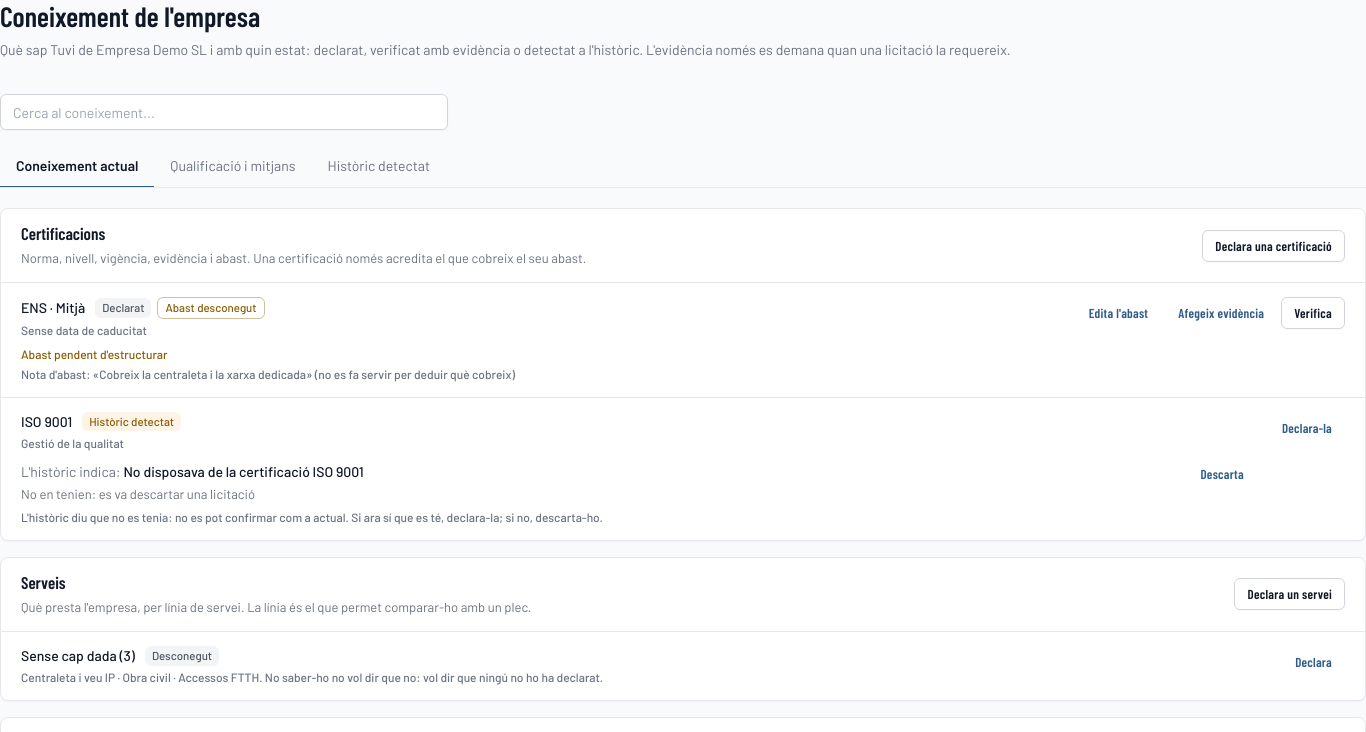
Test case: Coneixement de l'empresa › edita l'abast d'una certificació: el text és una nota i es desen línies del vocabulari
expect the element showing "Coneixement actual Qualificació i mitjans Històric detectat" is shown: met, box [0,146,1365,188]
Click the button "Edita l'abast" at (1118, 313), box [1076,297,1161,329]
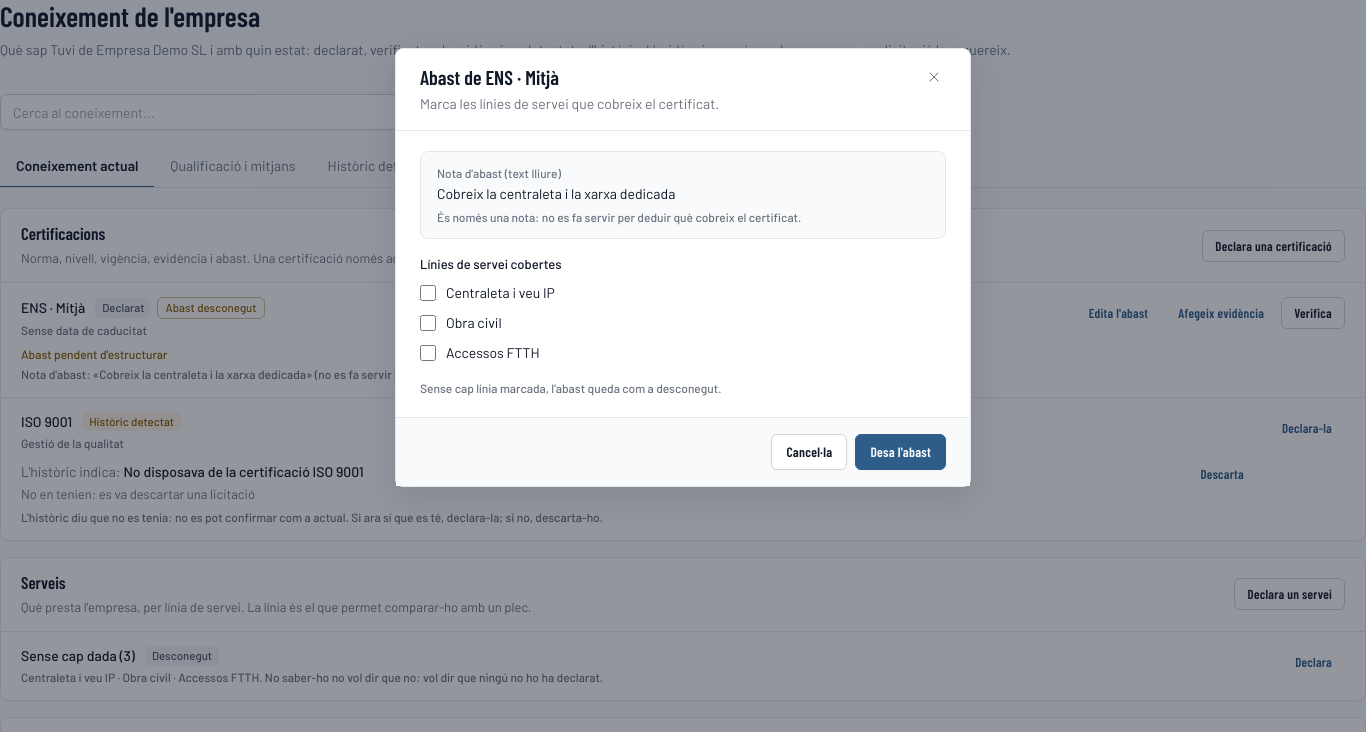
expect the dialog "Abast de ENS · Mitjà" shows "Cobreix la centraleta i la xarxa dedicada": met, box [437,185,675,202]
expect the dialog "Abast de ENS · Mitjà" shows "no es fa servir per deduir què cobreix el certificat": met, box [437,210,801,224]
expect the dialog "Abast de ENS · Mitjà" shows "l'abast queda com a desconegut": met, box [420,380,722,394]
Click the checkbox labelled "Centraleta i veu IP" at (428, 292), box [420,284,436,300]
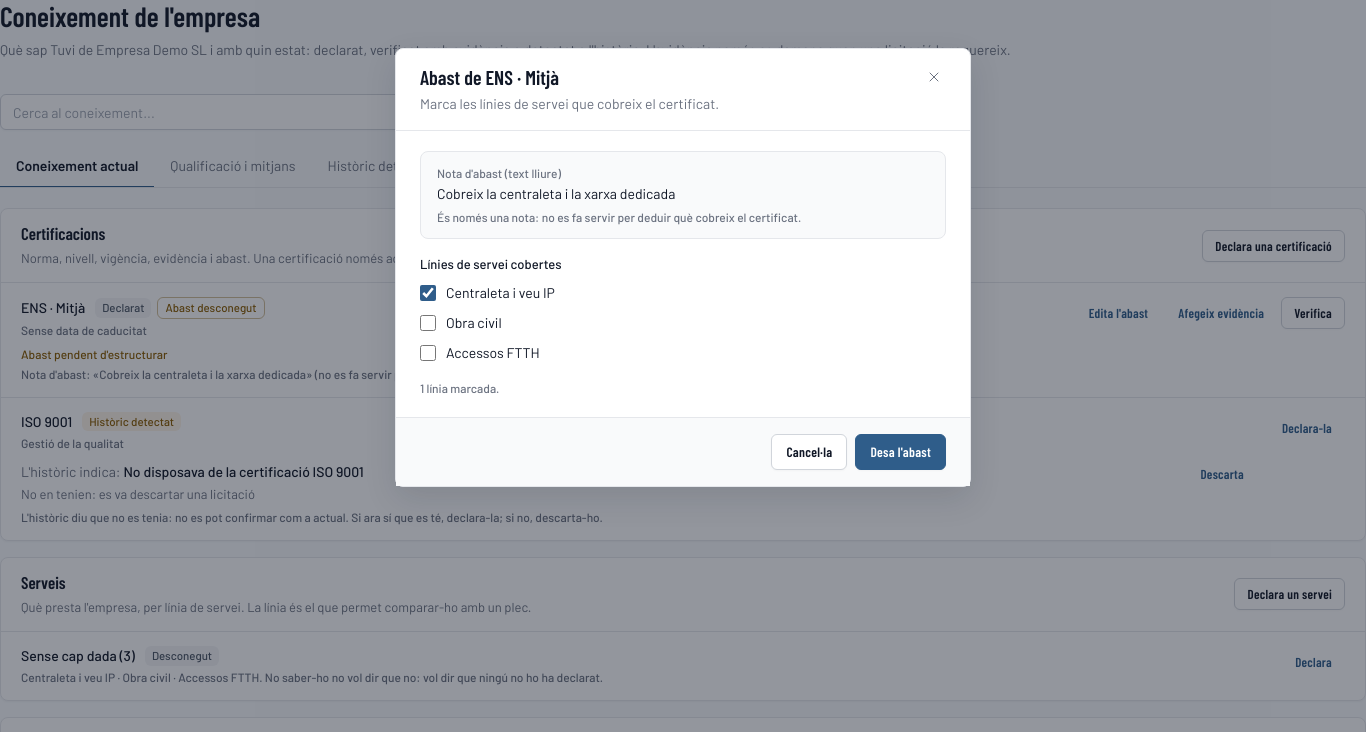
Click the button "Desa l'abast" at (901, 452), box [855,434,946,470]
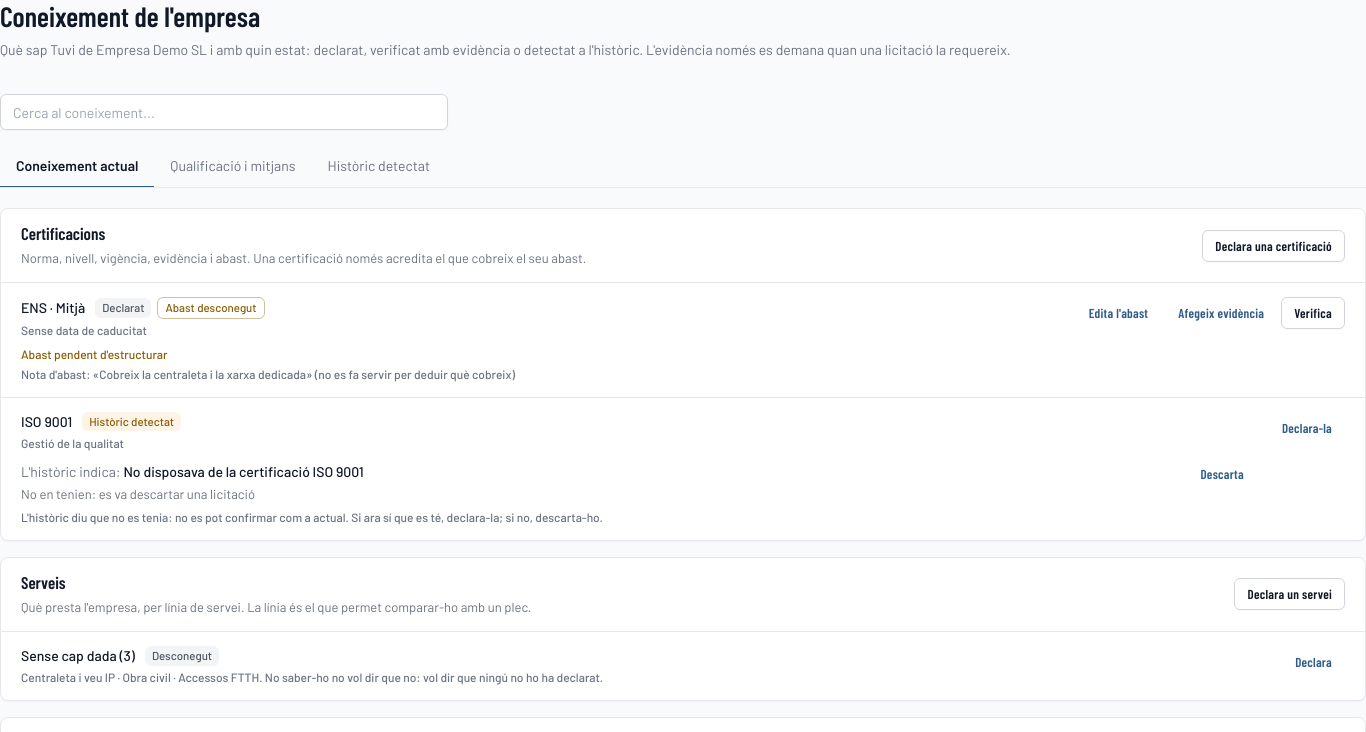
expect the dialog is gone: met
